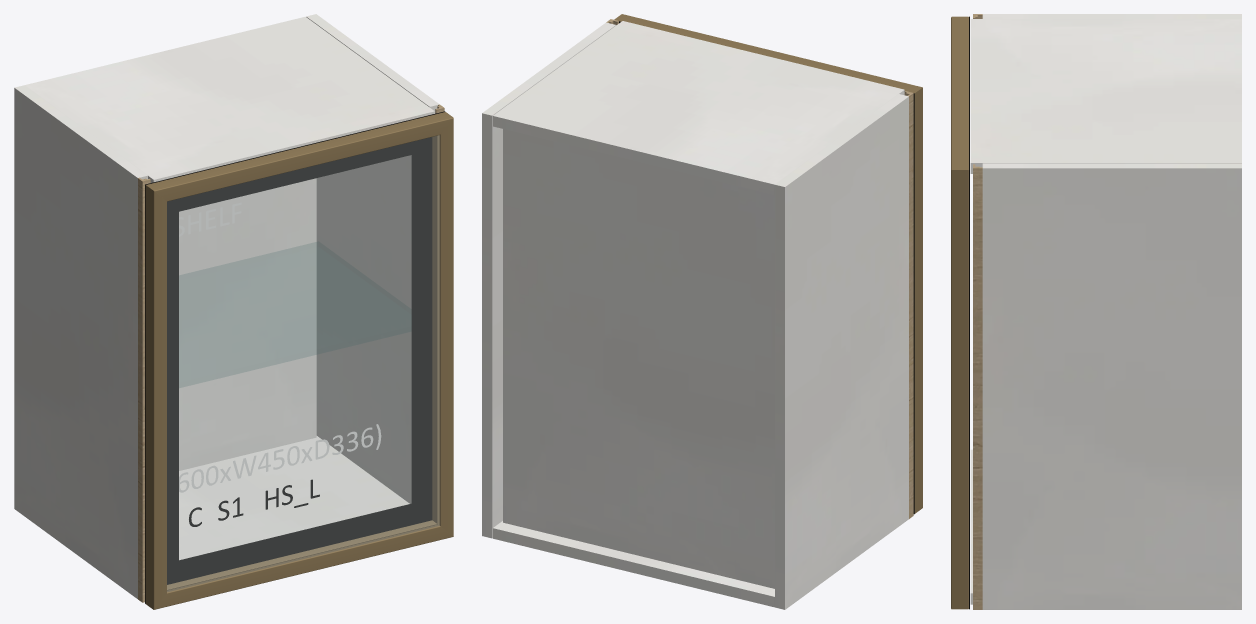
The model's file is LO-SH-NHX-GL-1SG-LHS-XXX-450-600-336-15.glb.
3 views of the same model, side by side, from view 1: azimuth 30°, elevation 25°; view 2: azimuth 150°, elevation 25°; view 3: azimuth 270°, elevation 25° (orthographic). The views are drawn at different scales.
Visible parts, largest first — view 1: Object_node_4, TP_node_0, TP, TP_node_2, Neon 22 Profile ALU PROF NEON 20 L21XH22.5MM 3MTR S2/405 SEC (×4), TP_node_1, Object_node_6, TP_node, Object_node_8, 2D text_node_0, 2D text_node; view 2: TP_node_2, TP_node_0, TP, TP_node_1, Neon 22 Profile ALU PROF NEON 20 L21XH22.5MM 3MTR S2/405 SEC (×2), TP_node, Object_node_8, Object_node_6; view 3: TP_node_1, TP, Neon 22 Profile ALU PROF NEON 20 L21XH22.5MM 3MTR S2/405 SEC (×2), Object_node_14, TP_node_0, Object_node_6, TP_node.
Boxes of the visible parts, x1=… form: Object_node_4: x1=167, y1=135, x2=439, y2=591; TP_node_0: x1=14, y1=85, x2=147, y2=598; TP: x1=24, y1=16, x2=434, y2=182; TP_node_2: x1=179, y1=178, x2=316, y2=470; Neon 22 Profile ALU PROF NEON 20 L21XH22.5MM 3MTR S2/405 SEC (×4): x1=145, y1=112, x2=453, y2=609; TP_node_1: x1=306, y1=14, x2=439, y2=503; Object_node_6: x1=145, y1=111, x2=445, y2=603; TP_node: x1=179, y1=436, x2=409, y2=560; Object_node_8: x1=138, y1=177, x2=150, y2=602; 2D text_node_0: x1=179, y1=424, x2=381, y2=492; 2D text_node: x1=189, y1=479, x2=319, y2=526; TP_node_2: x1=503, y1=129, x2=774, y2=588; TP_node_0: x1=775, y1=94, x2=908, y2=609; TP: x1=493, y1=21, x2=904, y2=195; TP_node_1: x1=482, y1=22, x2=616, y2=538; Neon 22 Profile ALU PROF NEON 20 L21XH22.5MM 3MTR S2/405 SEC (×2): x1=614, y1=14, x2=922, y2=513; TP_node: x1=493, y1=521, x2=774, y2=607; Object_node_8: x1=904, y1=91, x2=913, y2=518; Object_node_6: x1=619, y1=21, x2=914, y2=514; TP_node_1: x1=982, y1=163, x2=1241, y2=609; TP: x1=970, y1=19, x2=1241, y2=173; Neon 22 Profile ALU PROF NEON 20 L21XH22.5MM 3MTR S2/405 SEC (×2): x1=951, y1=16, x2=968, y2=609; Object_node_14: x1=973, y1=164, x2=982, y2=609; TP_node_0: x1=982, y1=14, x2=1241, y2=18; Object_node_6: x1=969, y1=16, x2=969, y2=609; TP_node: x1=970, y1=449, x2=972, y2=604.
Size of what is drawn, in the model's own units: 0.45 by 0.6 by 0.358.
Materials: 8 (2 with a texture image).
